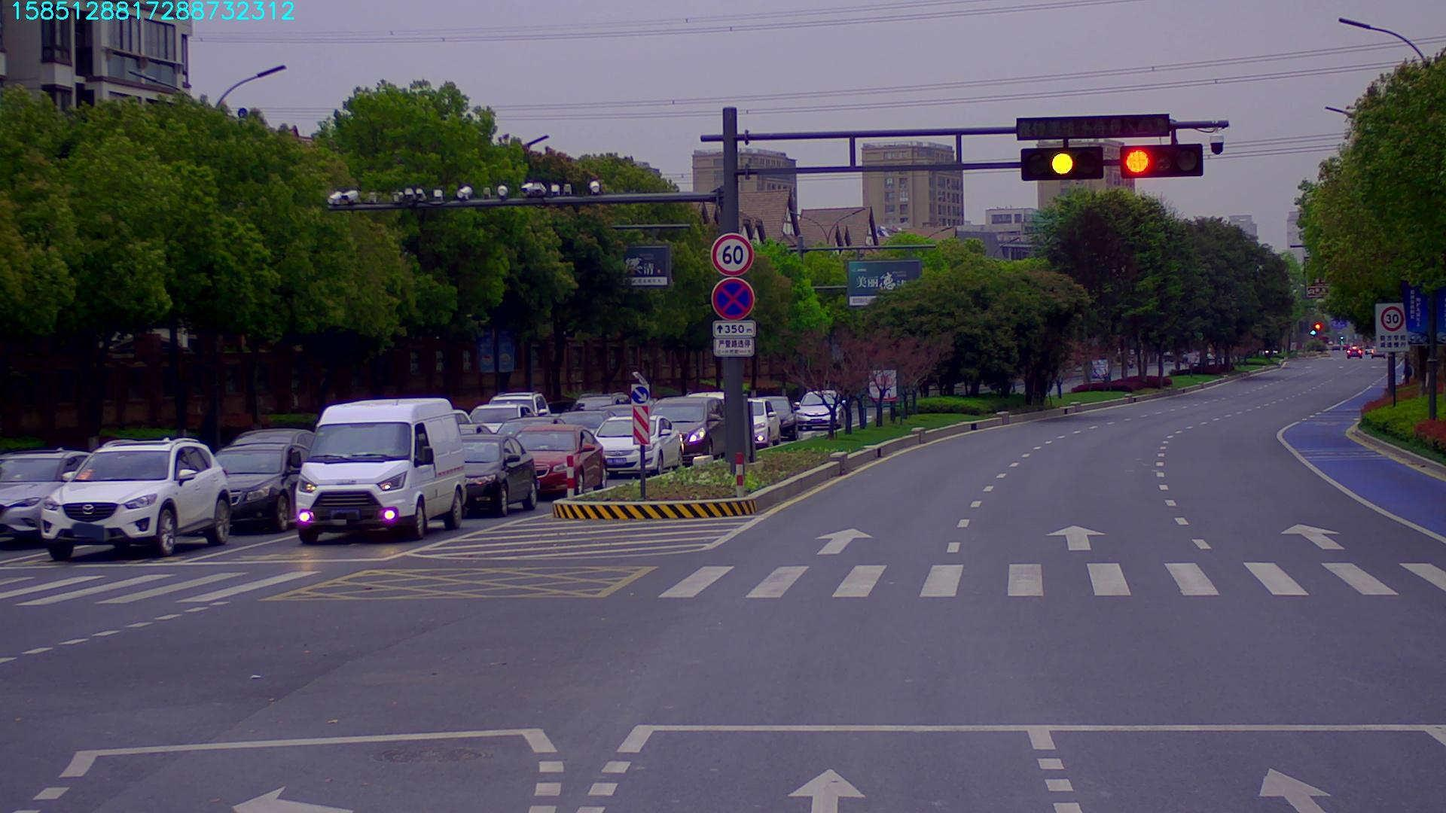red: (1114, 140, 1204, 177)
yellow: (1014, 147, 1105, 186)
